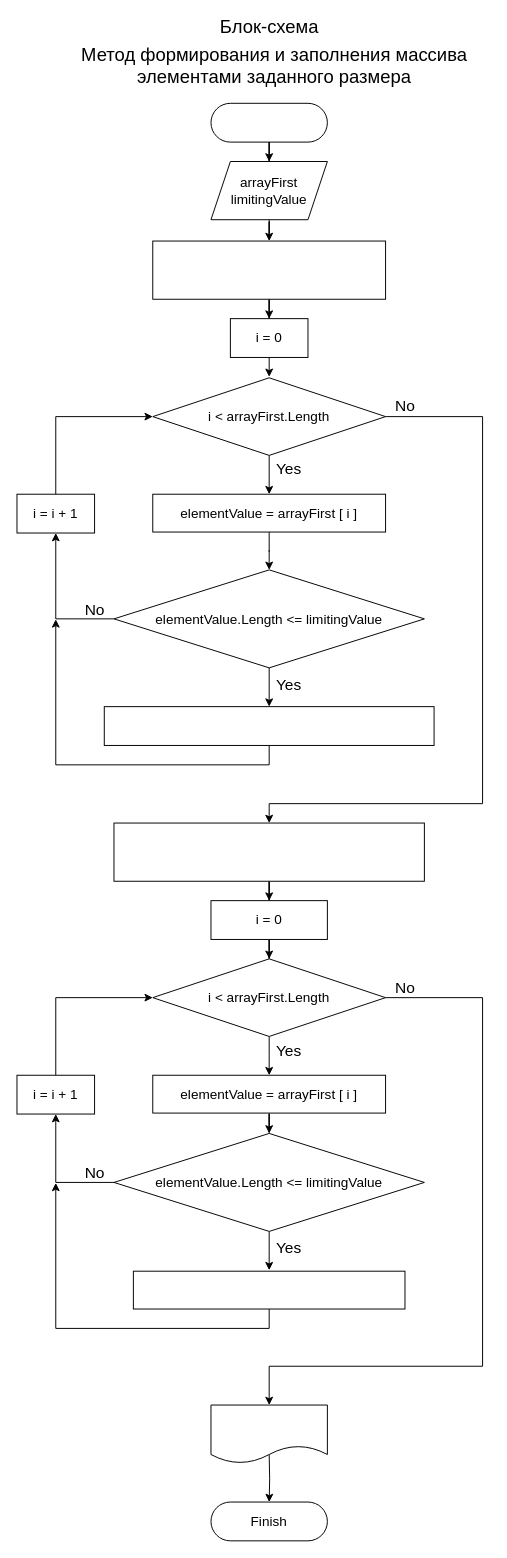
Some shapes in this 507 by 1558 pixel diagram are drawn without their labels. Each missing label, with the box of its shape:
arraySecond: (210, 1404, 327, 1463)
arraySecond = [lengthOfSecondArray] iSecond = 0: (113, 822, 424, 881)
arraySecond [ iSecond ] = arrayFirst [ i ] iSecond = iSecond + 1: (132, 1270, 405, 1309)
lengthOfSecondArray = 0 elementValue = пустая строка: (152, 240, 386, 299)
lengthOfSecondArray = lengthOfSecondArray + 1: (103, 706, 434, 745)
Start: (210, 102, 327, 142)
